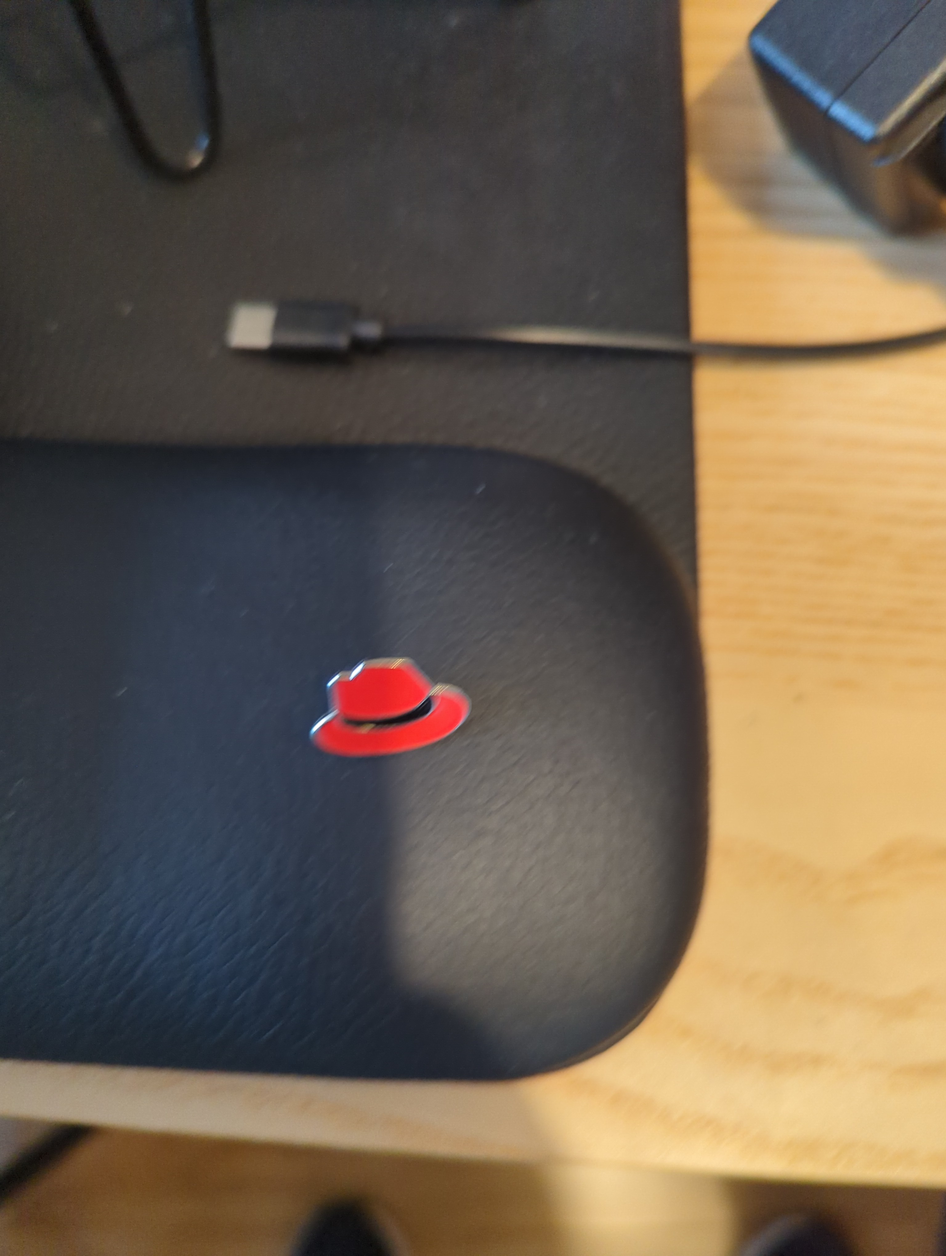Red-Hat: (243, 572, 582, 859)
